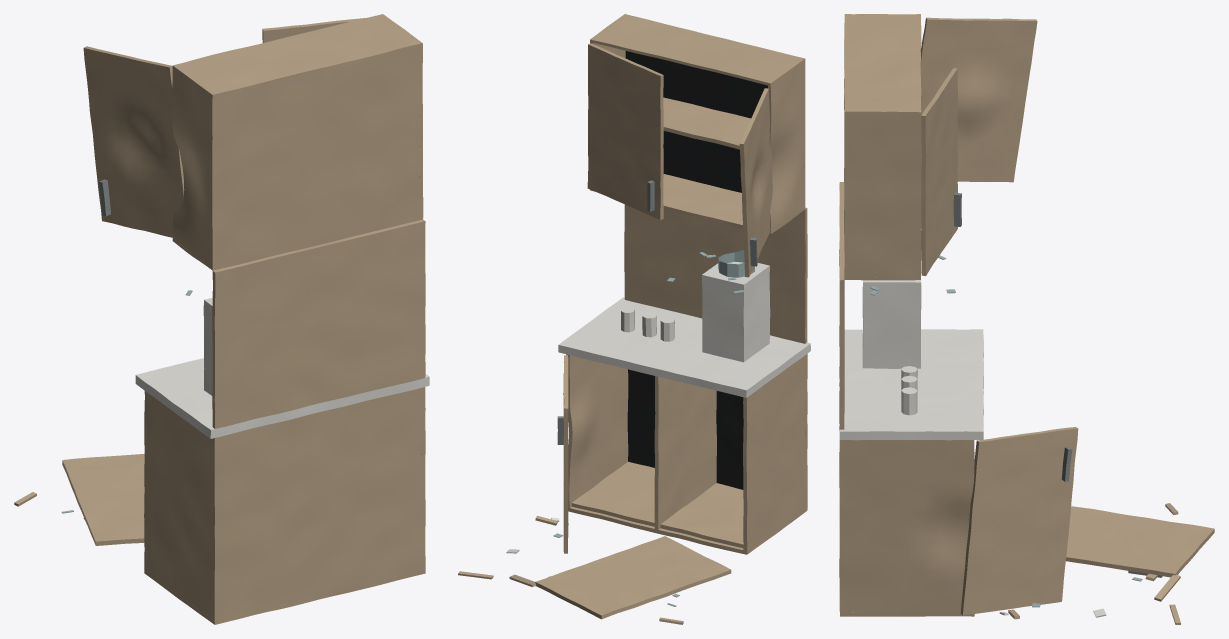
Rendered from tea_niche_broken.fbx.
The picture shows the model from 3 angles, left to right: view 1: azimuth 30°, elevation 25°; view 2: azimuth 150°, elevation 25°; view 3: azimuth 270°, elevation 25°; orthographic projection. The views are drawn at different scales.
Visible parts, largest first — view 1: tea_niche_broken, tea_niche_upperL, tea_niche_lowerL, tea_niche_upperR; view 2: tea_niche_broken, tea_niche_upperR, tea_niche_lowerL, tea_niche_upperL, tea_niche_lowerR, tea_niche_debris, tea_niche_glass; view 3: tea_niche_broken, tea_niche_lowerR, tea_niche_upperL, tea_niche_lowerL, tea_niche_upperR, tea_niche_debris.
Part boxes in pixels (left/top/right/bottom): tea_niche_broken: left=135, top=14, right=429, bottom=624; tea_niche_upperL: left=83, top=46, right=184, bottom=237; tea_niche_lowerL: left=62, top=453, right=144, bottom=545; tea_niche_upperR: left=262, top=18, right=365, bottom=42; tea_niche_broken: left=558, top=14, right=810, bottom=554; tea_niche_upperR: left=587, top=43, right=663, bottom=219; tea_niche_lowerL: left=535, top=536, right=731, bottom=619; tea_niche_upperL: left=739, top=88, right=772, bottom=277; tea_niche_lowerR: left=557, top=355, right=568, bottom=553; tea_niche_debris: left=458, top=252, right=744, bottom=624; tea_niche_glass: left=718, top=250, right=754, bottom=277; tea_niche_broken: left=839, top=14, right=983, bottom=616; tea_niche_lowerR: left=960, top=427, right=1078, bottom=615; tea_niche_upperL: left=920, top=17, right=1037, bottom=182; tea_niche_lowerL: left=1066, top=506, right=1214, bottom=577; tea_niche_upperR: left=921, top=68, right=961, bottom=275; tea_niche_debris: left=870, top=255, right=1180, bottom=624.
Size of the model in its own units: 122 by 243 by 162.
